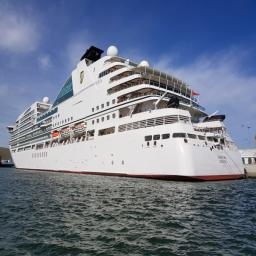cruises: (7, 44, 249, 182)
